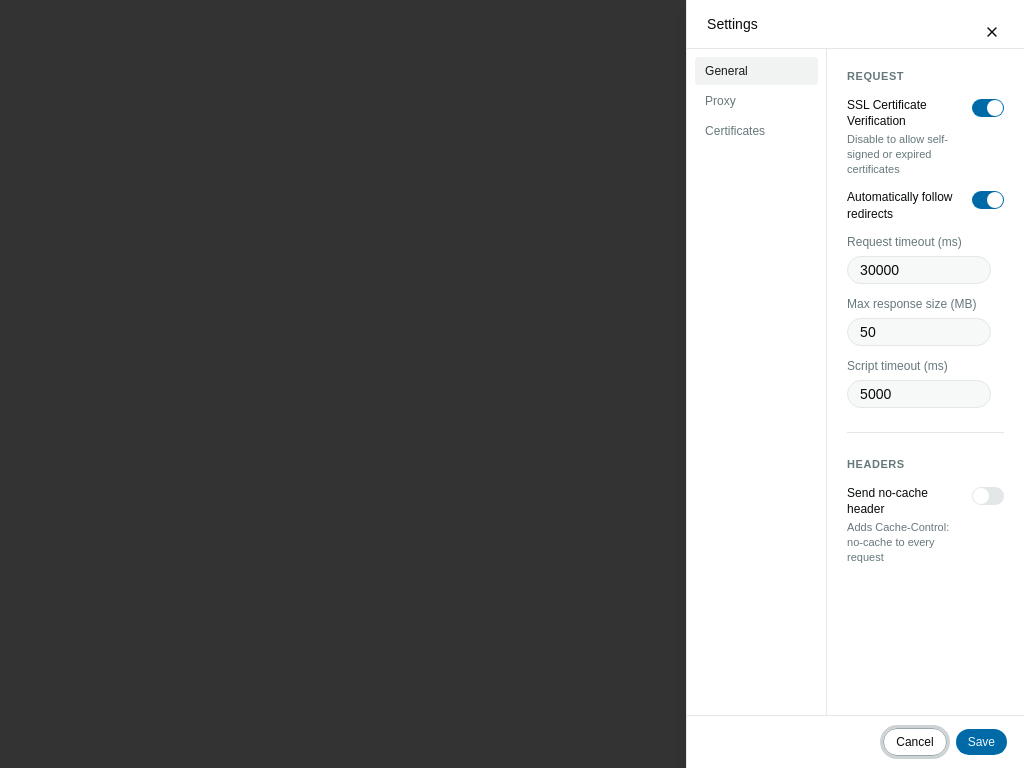
Test case: form population › populates proxy URL from backend value
# Switch to Proxy section
Click the button "Proxy".
click(757, 101)  # box [695, 87, 818, 115]
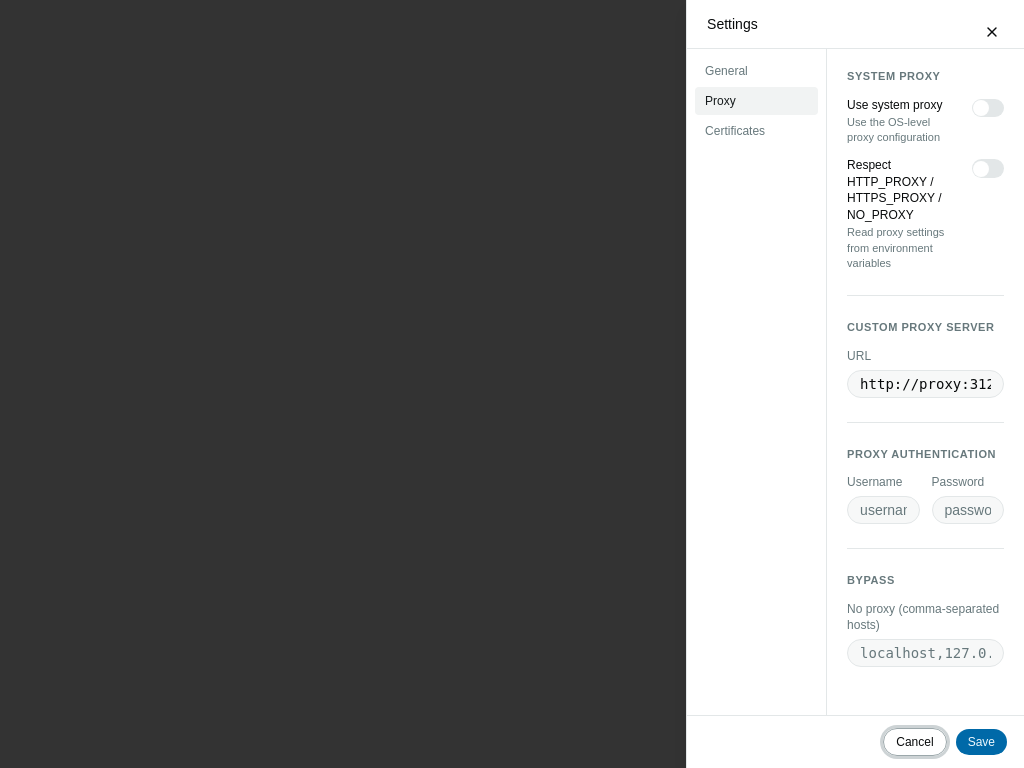
Now the field with placeholder "http://proxy.example.com:3128" holds "http://proxy:3128", box [847, 370, 1004, 398]
